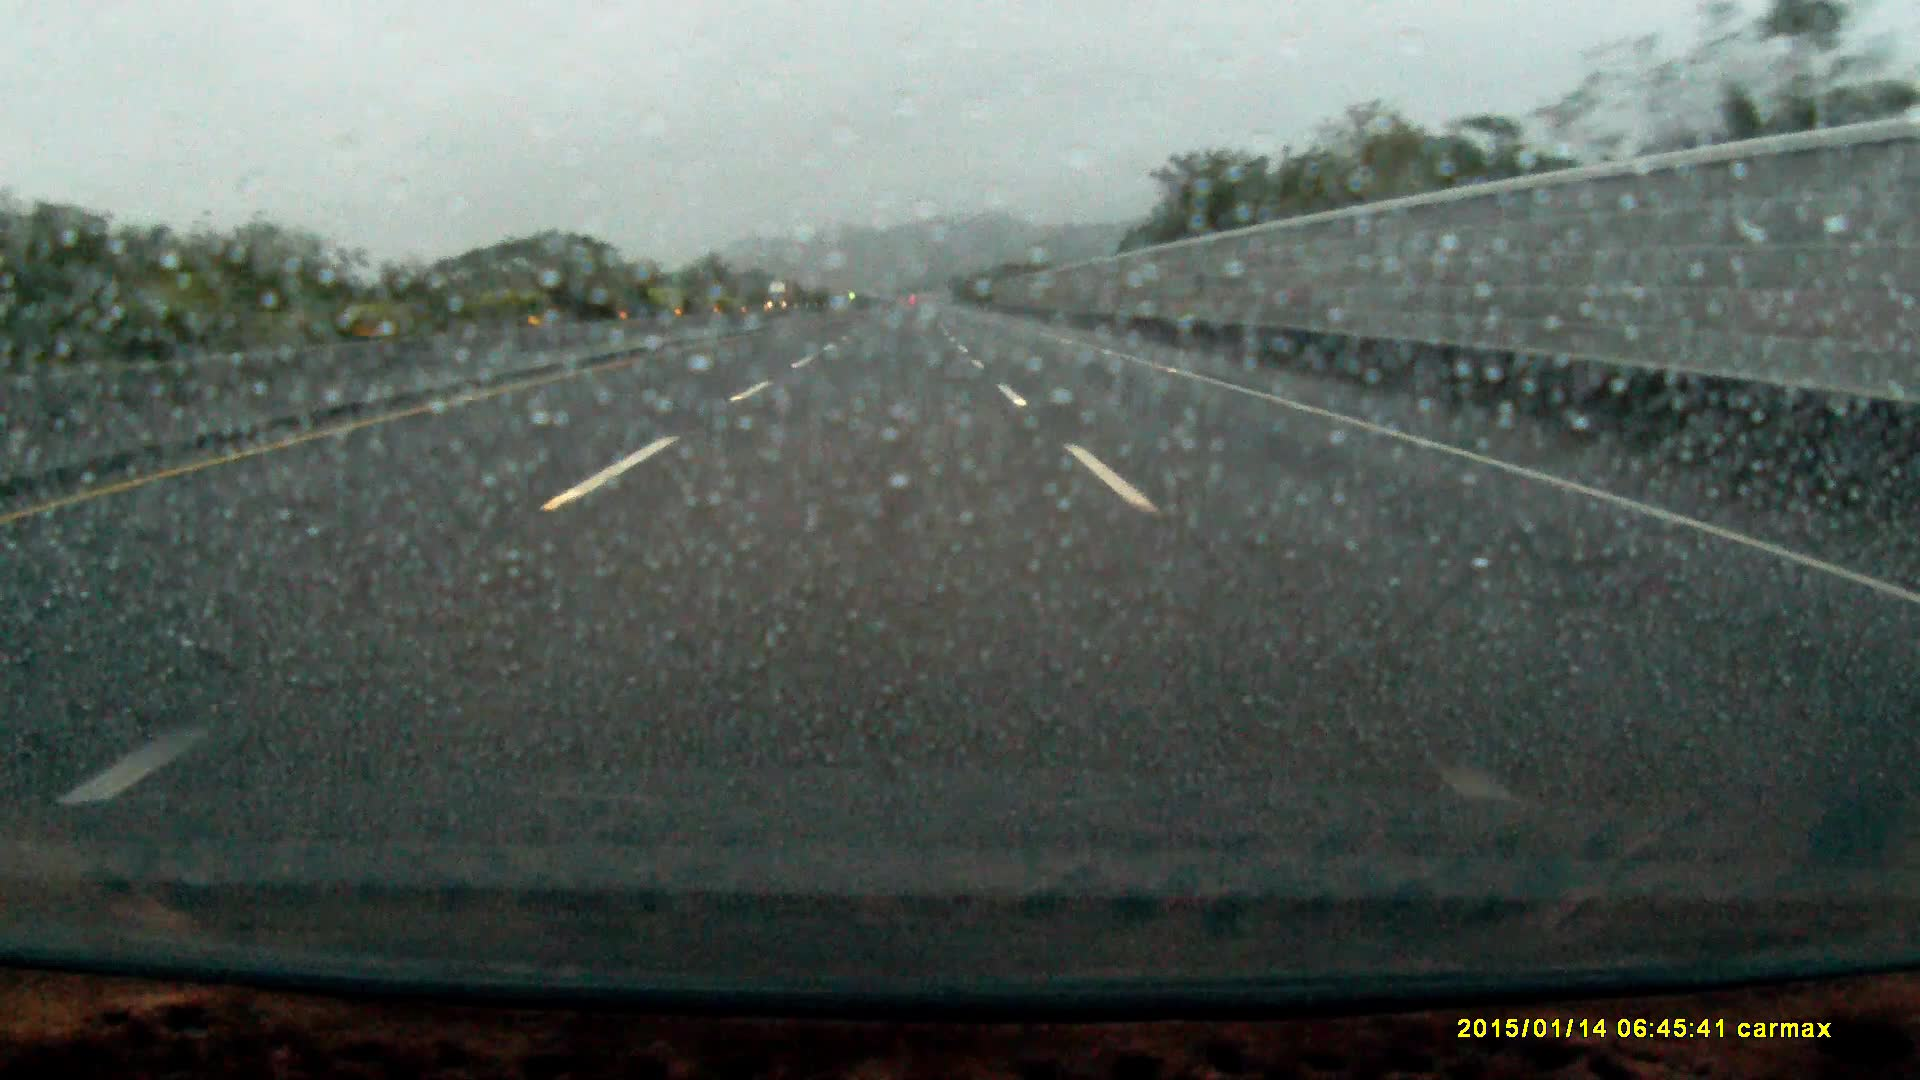vehicle: (767, 280, 794, 307)
